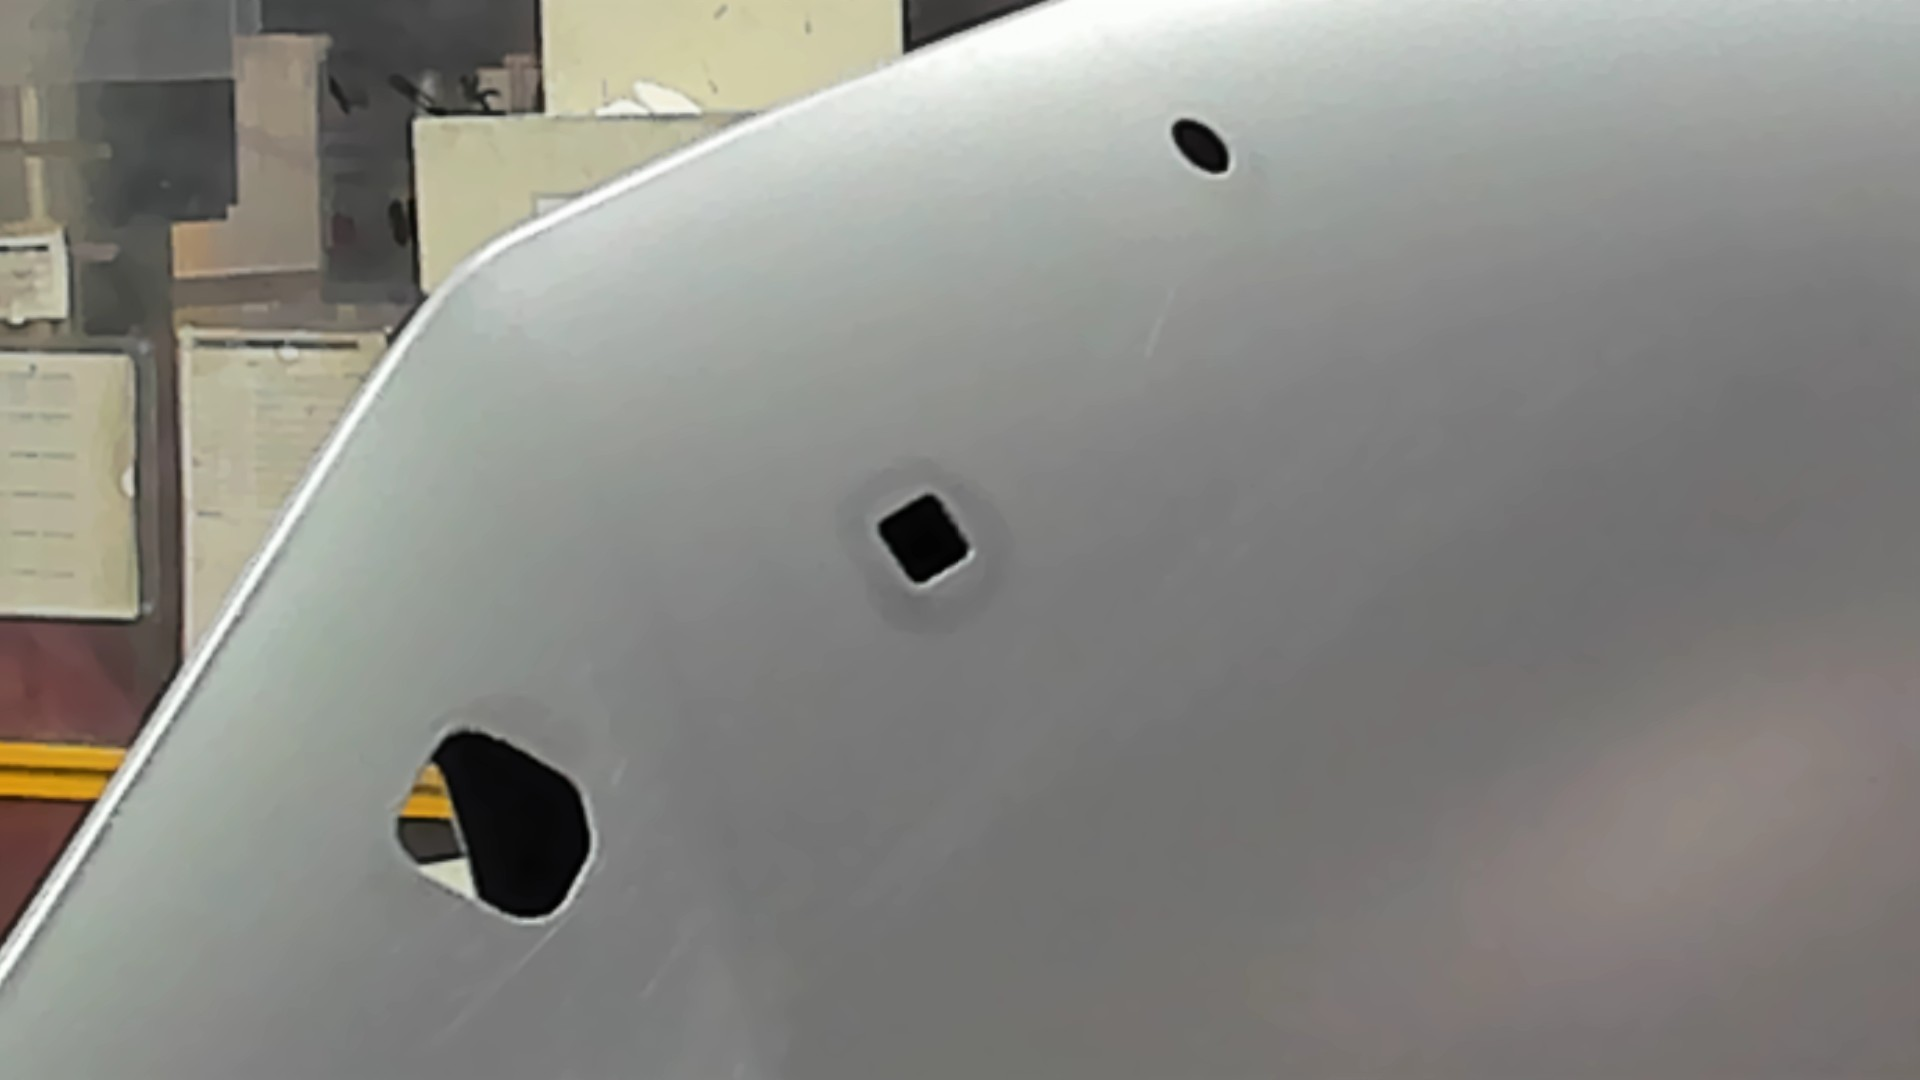chico: (1163, 109, 1238, 179)
grande: (389, 723, 601, 928)
mediano: (866, 487, 978, 595)
